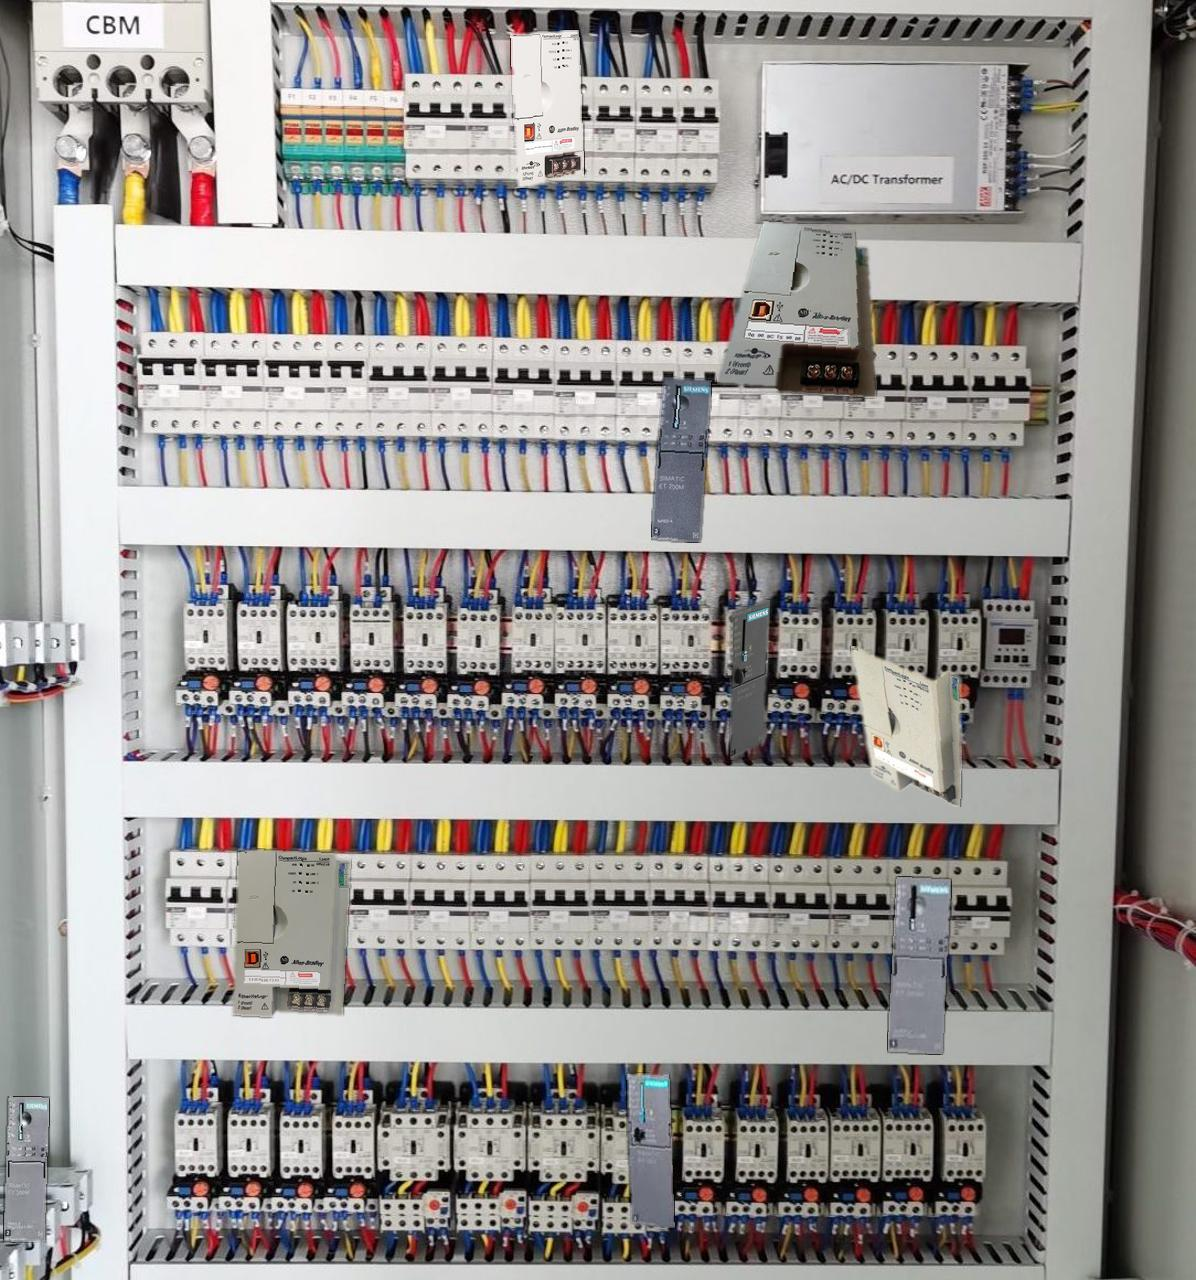AllenBradley: (717, 221, 876, 396), (233, 850, 348, 1016), (851, 646, 960, 806), (510, 30, 583, 187)
Siemens: (626, 1074, 674, 1227), (730, 600, 769, 759)
